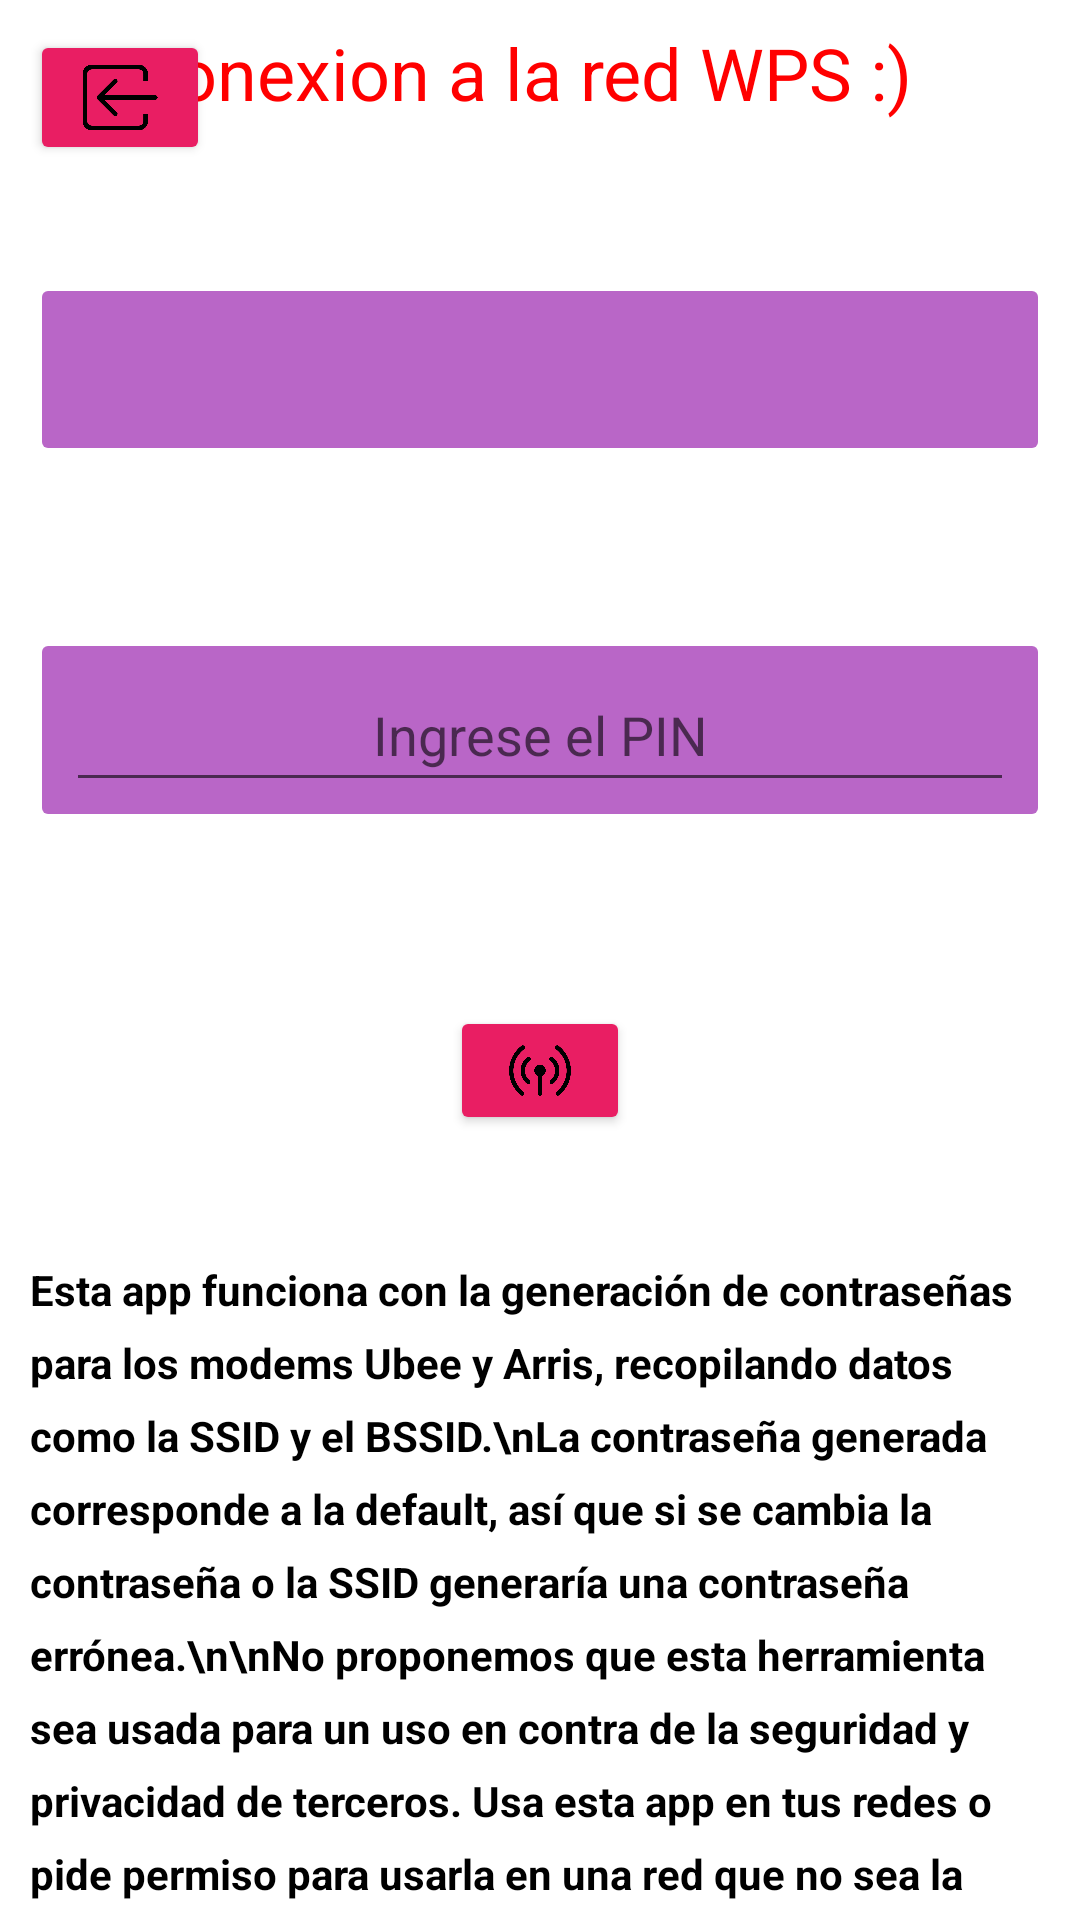

Named icons in this screenshot (1080 × 1920) and their centers, [x,y]:
connect: [540,1072]
